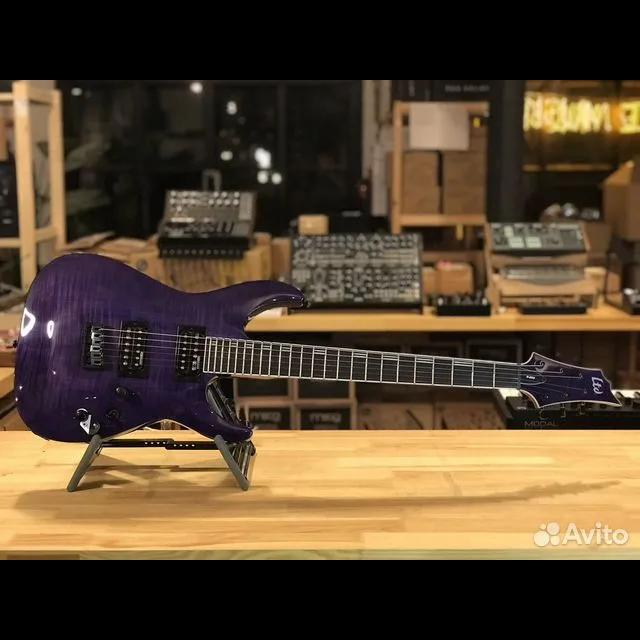Electric-Guitar: (16, 254, 622, 442)
